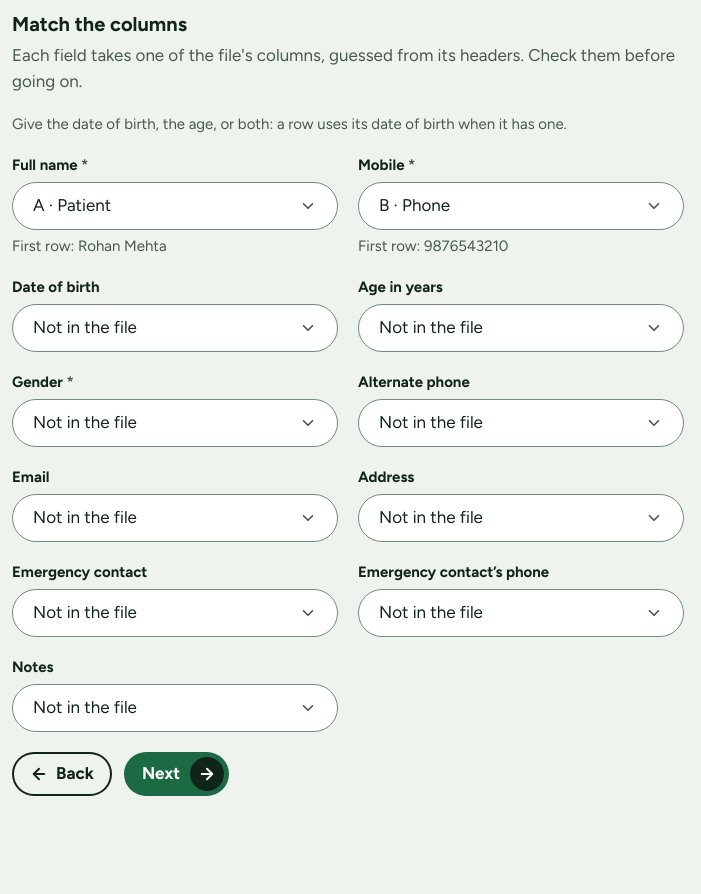
it: ImportColumnsStep (plan §10.5) › asks for what a row cannot do without before going on
Click the button "Next": click(176, 774) [124, 752, 229, 796]
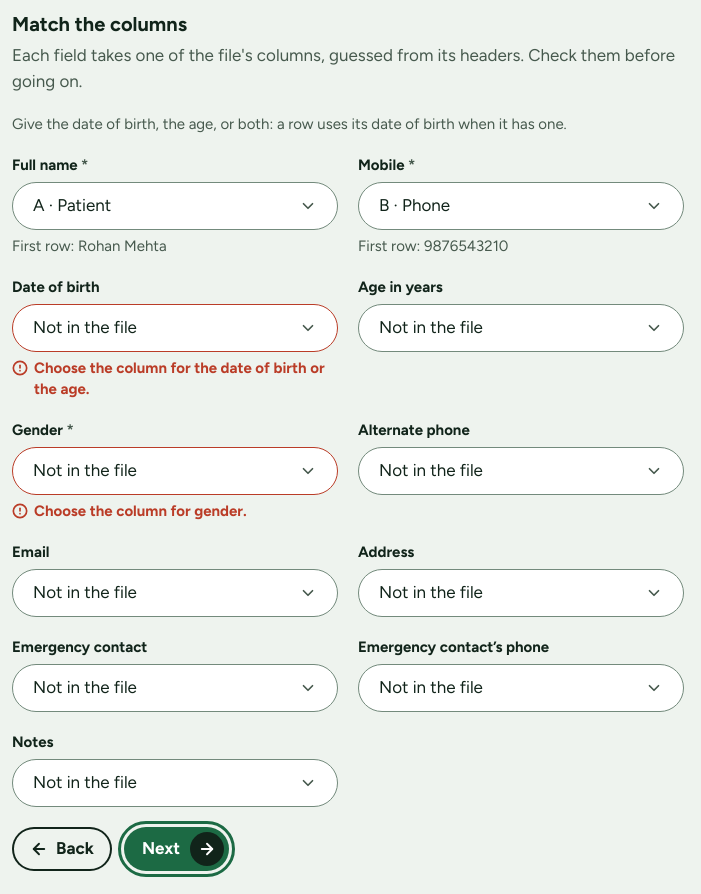
expect the text "Choose the column for gender." is shown: met, box [12, 502, 247, 520]
expect the text "Choose the column for the date of birth or the age." is shown: met, box [12, 358, 338, 400]
